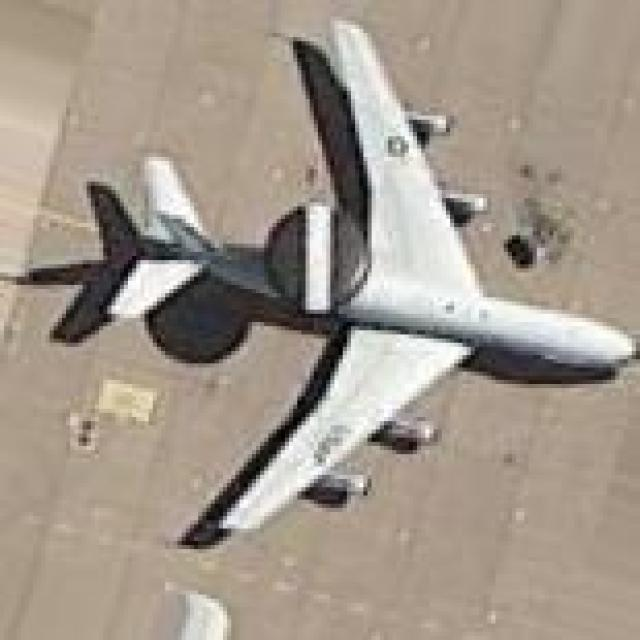E-3_TopDown: (0, 12, 636, 550)
